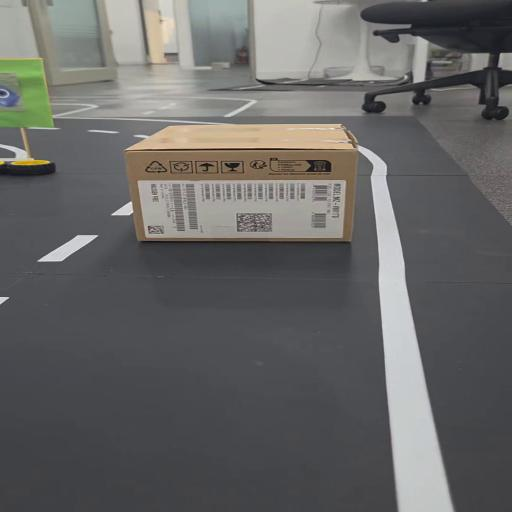Box: (125, 116, 357, 244)
